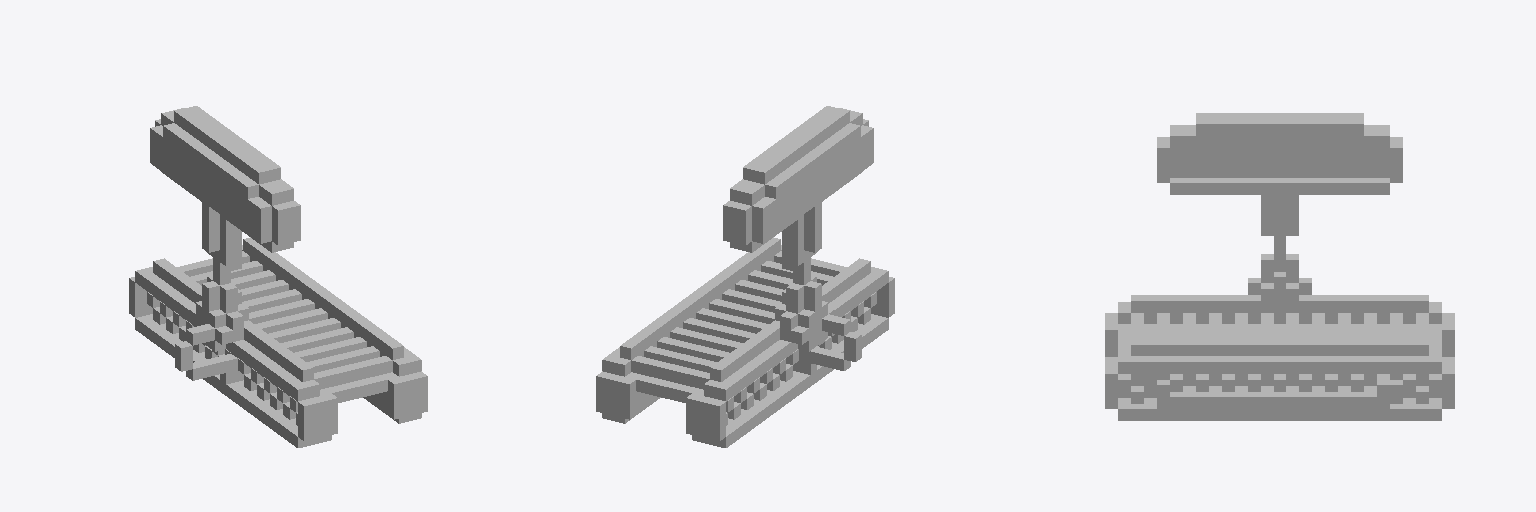
File: Esteira 6.obj
3 renders of one model, left to right at view 1: azimuth 30°, elevation 25°; view 2: azimuth 150°, elevation 25°; view 3: azimuth 270°, elevation 25°, orthographic.
Parts seen in each view (by area): view 1: object 1; view 2: object 1; view 3: object 1.
Part boxes in pixels (left/top/right/bottom): object 1: left=129, top=106, right=427, bottom=447; object 1: left=596, top=106, right=894, bottom=447; object 1: left=1105, top=113, right=1454, bottom=420.
Size of the model in its own units: 1.5 by 2.1 by 2.7.